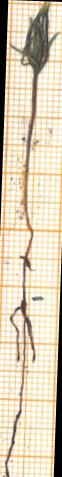flower: (5, 0, 60, 78)
root: (2, 303, 40, 477)
stem: (14, 78, 44, 304)
